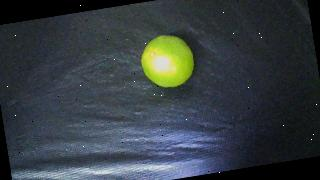LOCAL: (138, 31, 197, 91)
